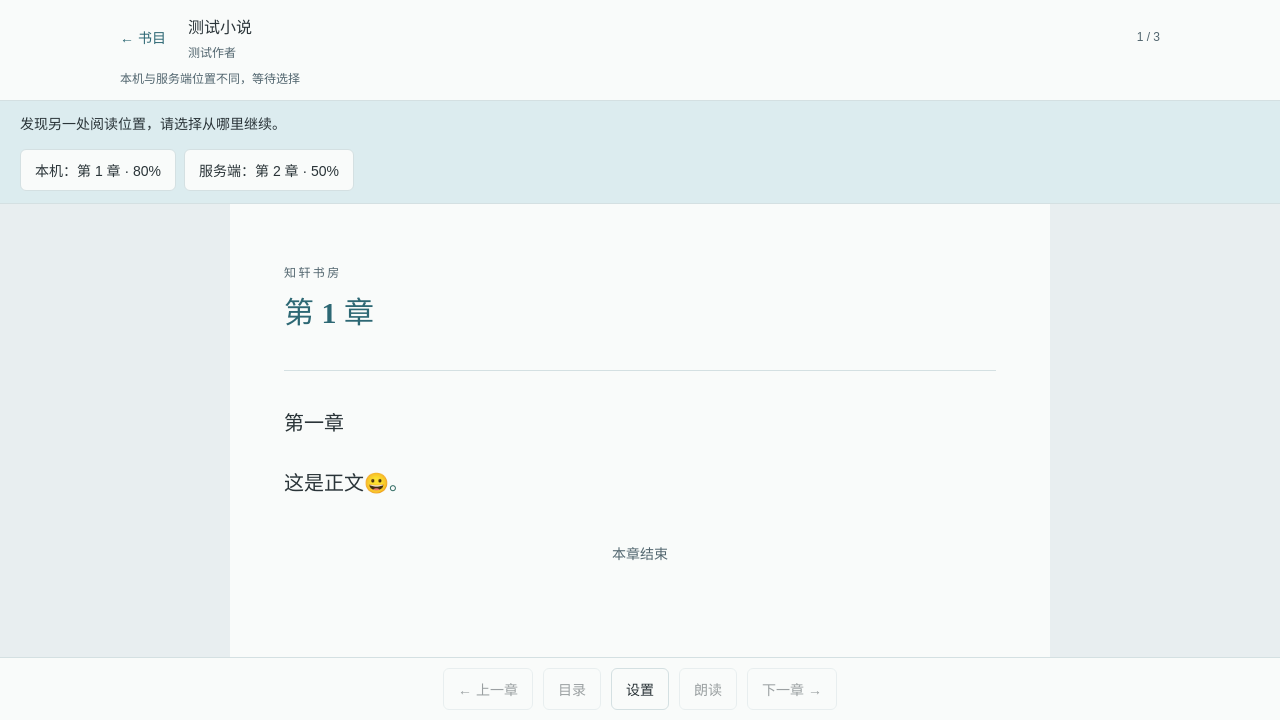
updates the deep link to the chosen conflict position so a refresh keeps the chosen chapter
Click the button "服务端：第 2 章 · 50%" at {"x": 269, "y": 170}, box [184,149,354,191]
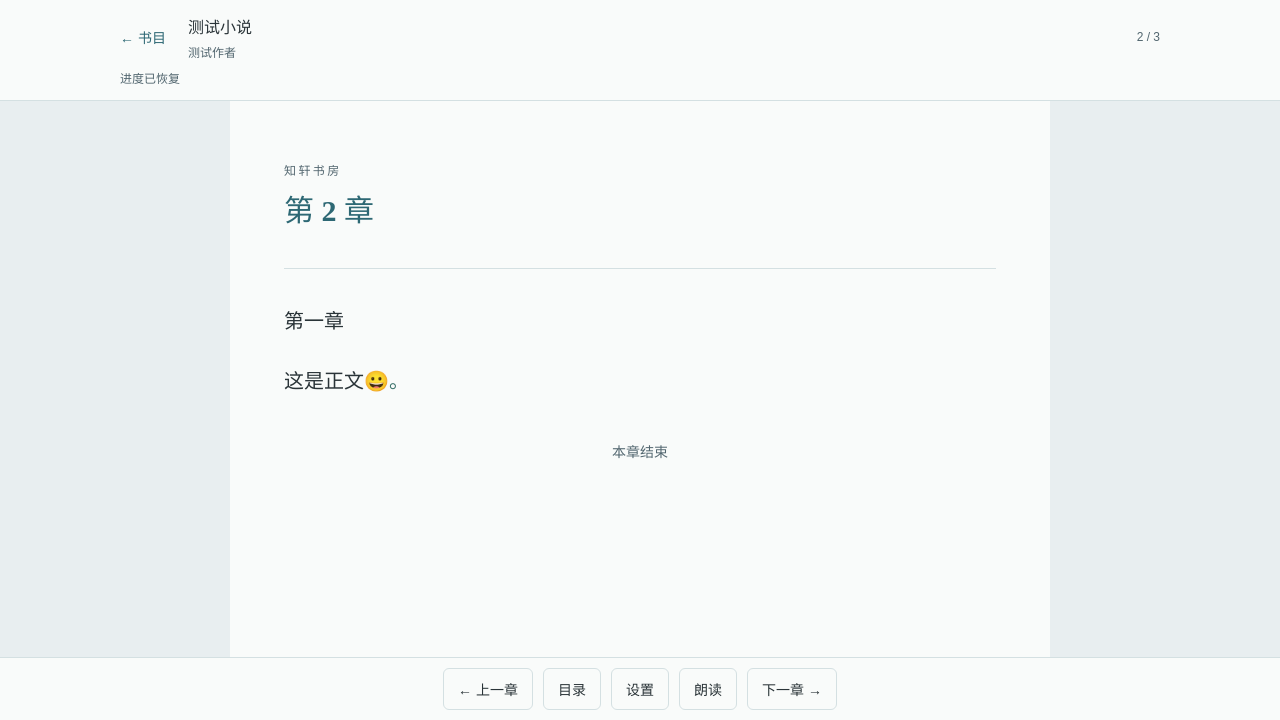
Now the heading "第 2 章" is shown, box [284,194,374,227]
Now the text "进度已恢复" is shown, box [120,72,180,86]
